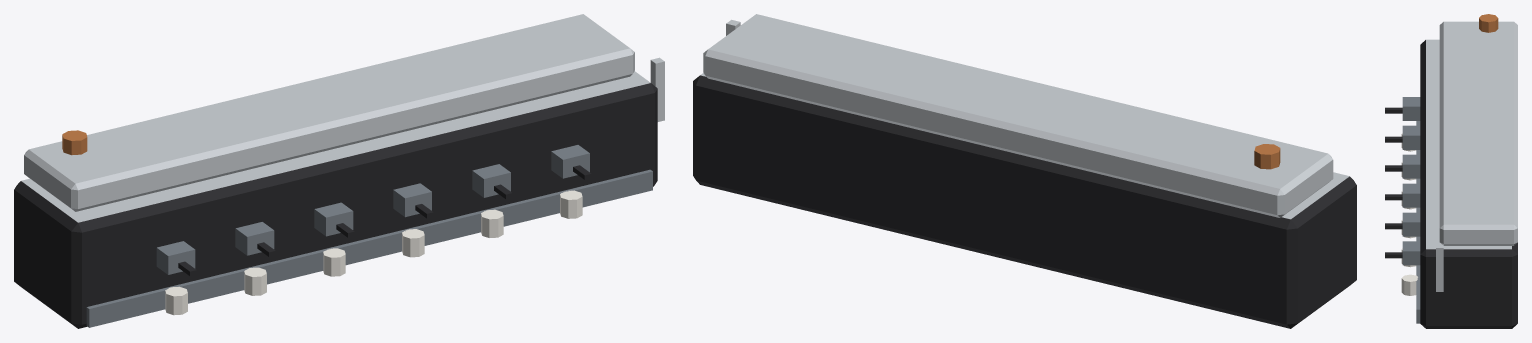
Rendered from espresso_6.fbx.
3 renders of one model, left to right at view 1: azimuth 30°, elevation 25°; view 2: azimuth 150°, elevation 25°; view 3: azimuth 270°, elevation 25°, orthographic. The views are drawn at different scales.
Visible parts, largest first — view 1: espresso_6; view 2: espresso_6; view 3: espresso_6.
Boxes of the visible parts, x1,y1,x2,y2 form: espresso_6: [14, 14, 664, 328]; espresso_6: [693, 14, 1356, 328]; espresso_6: [1385, 14, 1517, 328].
Bounding box in the file's own units: 2.66 × 0.65 × 0.68.
